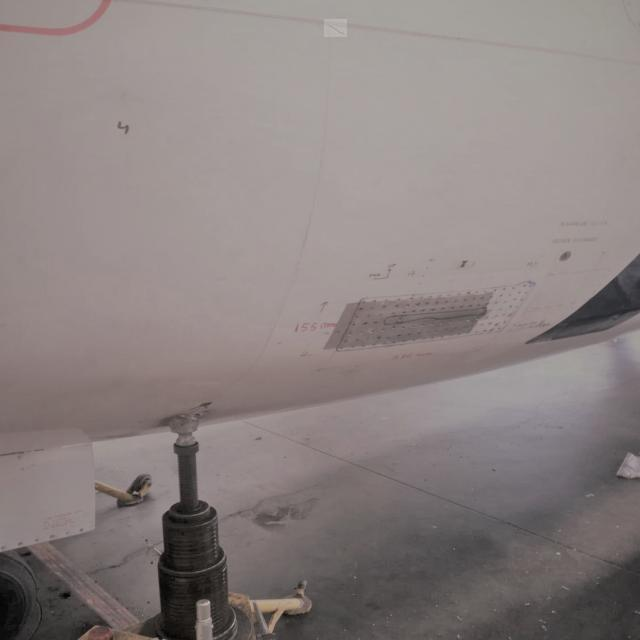crack: (325, 20, 348, 38)
